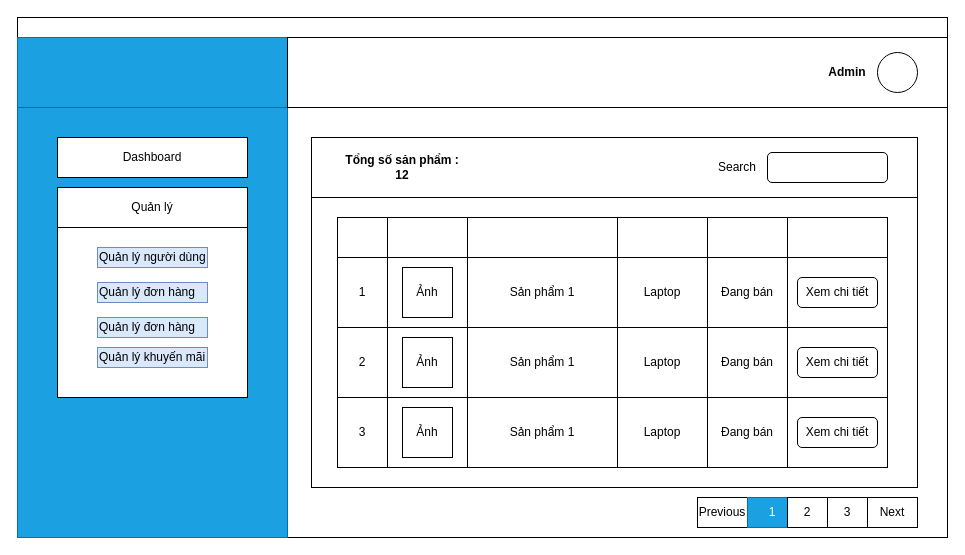
The diagram is 965 pixels wide and 555 high, and some of its shapes have lost their labels. The centre of each missing label's shape, as x and y in pixels:
Id: point 362,237
Trang quản trị: point 152,72
